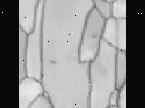good_void: (49, 59, 57, 63)
